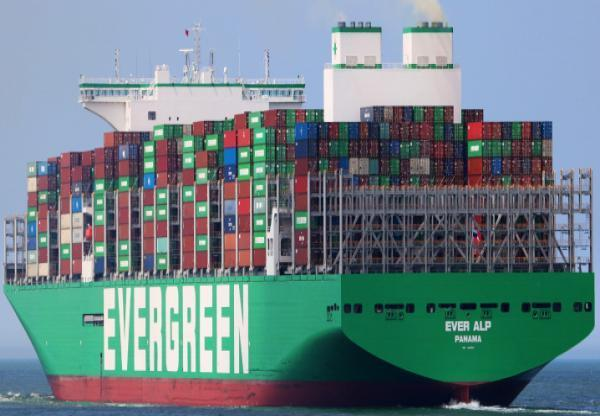Container Ship: (1, 17, 596, 408)
